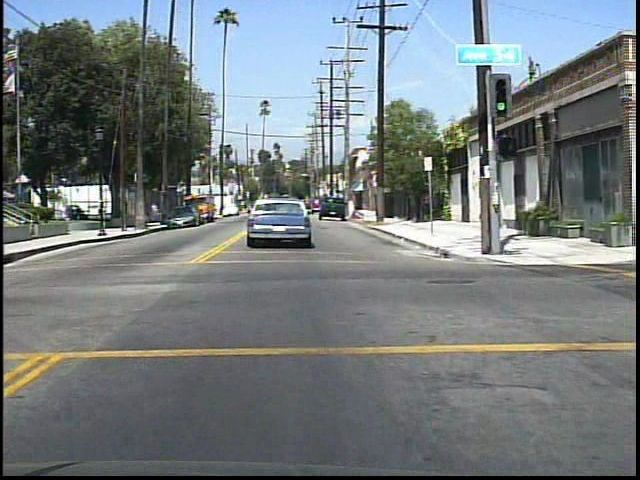person: (151, 204, 165, 229), (119, 194, 132, 217), (98, 197, 107, 220)
